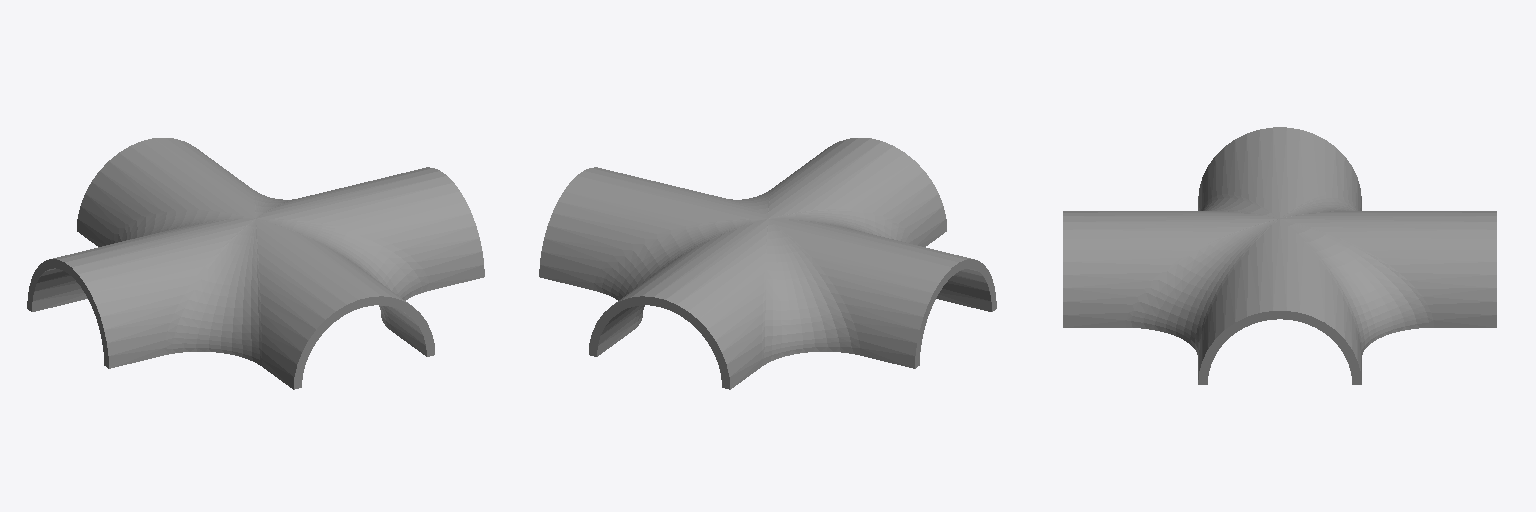
3 renders of one model, left to right at view 1: azimuth 30°, elevation 25°; view 2: azimuth 150°, elevation 25°; view 3: azimuth 270°, elevation 25°, orthographic.
Visible parts, largest first — view 1: Body1; view 2: Body1; view 3: Body1.
Boxes of the visible parts, x1=… form: Body1: x1=27, y1=138, x2=484, y2=389; Body1: x1=539, y1=138, x2=996, y2=389; Body1: x1=1063, y1=127, x2=1496, y2=384.
Bounding box in the file's own units: 45 × 8.5 × 45.